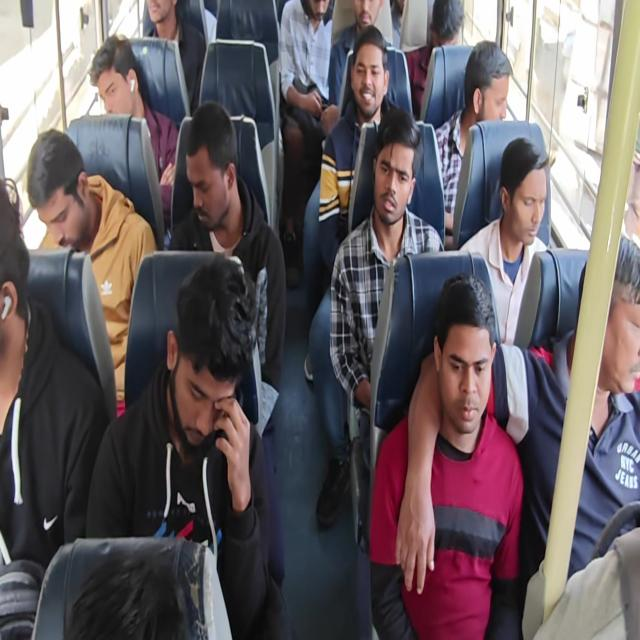person: (1, 1, 638, 638), (395, 232, 640, 635), (84, 254, 289, 638), (166, 101, 288, 588), (369, 272, 524, 638), (0, 177, 108, 638), (328, 107, 445, 525), (26, 128, 158, 416), (318, 25, 400, 272), (458, 136, 550, 349), (88, 34, 179, 237), (278, 1, 339, 280), (433, 39, 513, 236), (403, 0, 464, 119), (143, 0, 206, 113), (327, 0, 388, 109)
